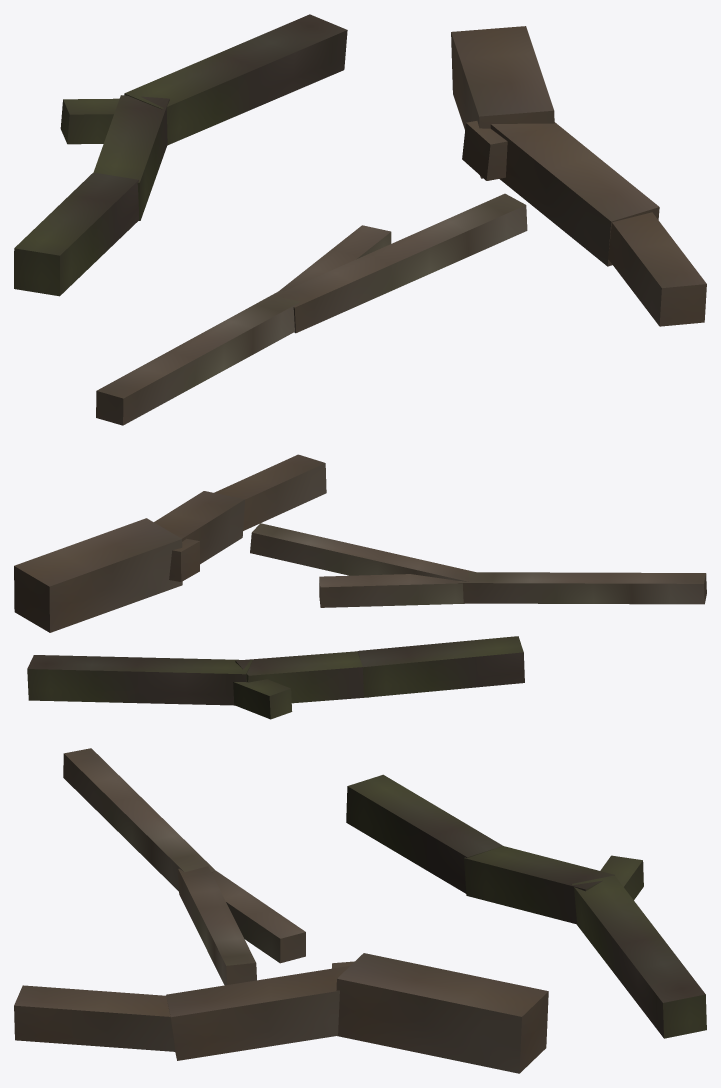
File: floortwig_6.obj
The picture shows the model from 3 angles, top to bottom: view 1: azimuth 30°, elevation 25°; view 2: azimuth 150°, elevation 25°; view 3: azimuth 270°, elevation 25°; orthographic projection. The views are drawn at different scales.
Parts seen in each view (by area): view 1: cube; view 2: cube; view 3: cube.
Part boxes in pixels (bbox=[...]): cube: bbox=[14, 14, 706, 425]; cube: bbox=[14, 454, 706, 719]; cube: bbox=[14, 748, 706, 1073].
Size of the model in its own units: 0.9542 by 0.1126 by 0.9336.
